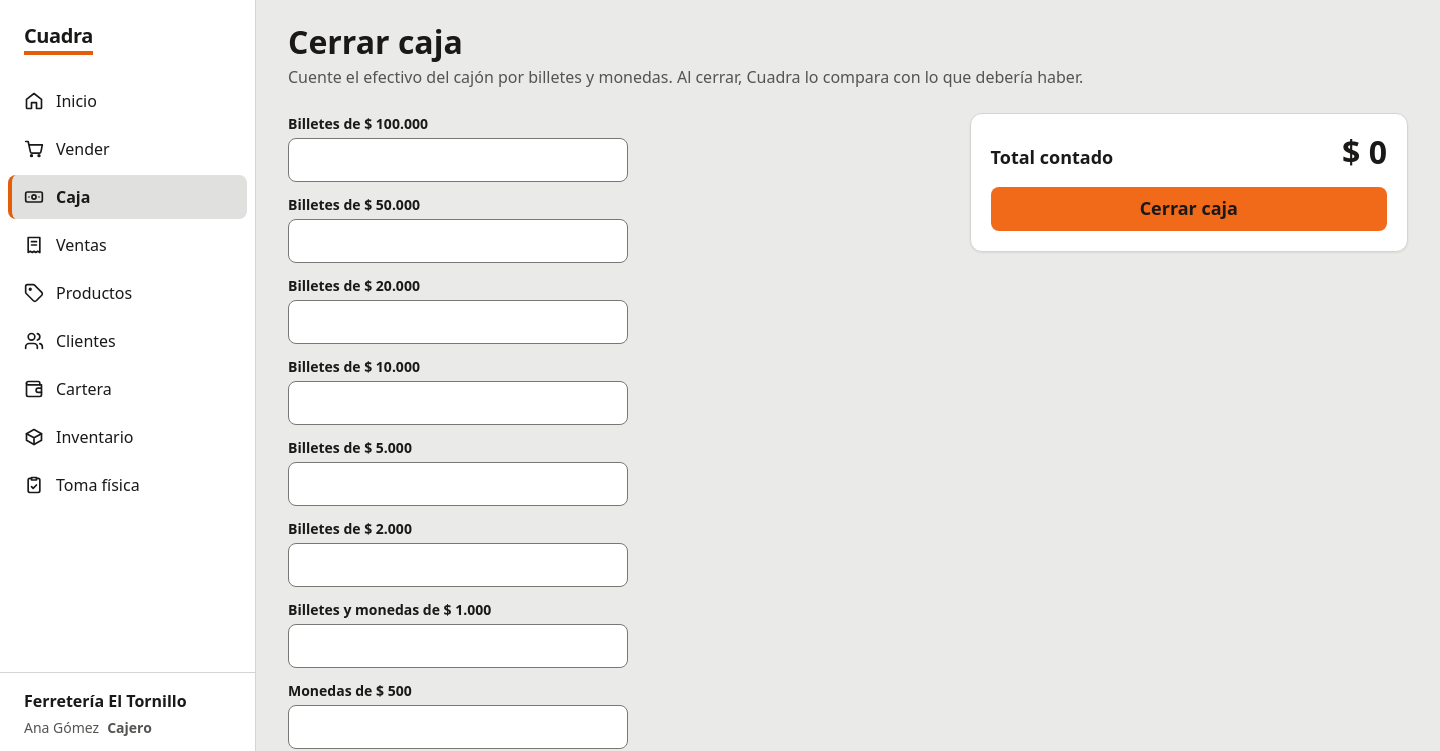
Test case: CloseCashPage › muestra el error de la API si la caja ya estaba cerrada
Step 1. Click the button "Cerrar caja" → (1189, 209), box [991,187,1387,231]
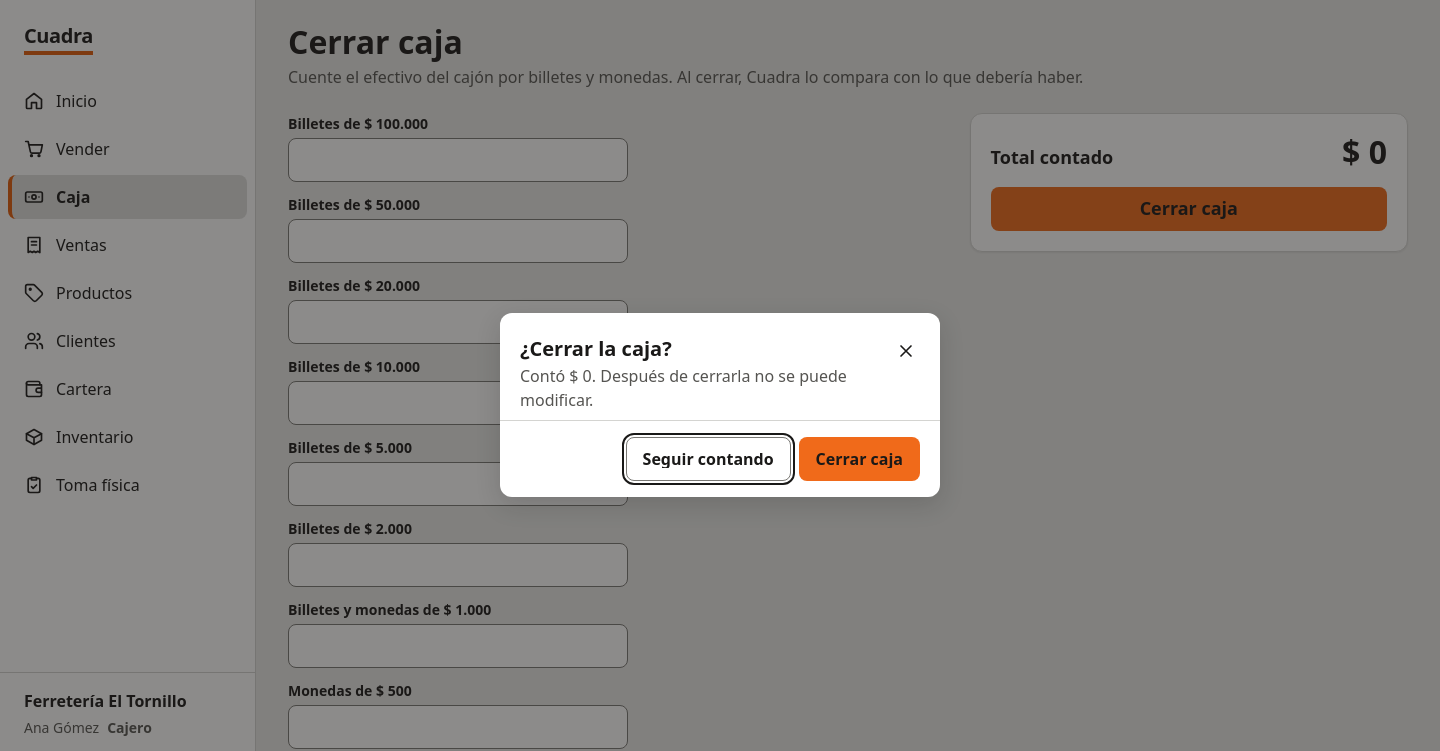
Step 2. Click the button "Cerrar caja" → (859, 459), box [799,437,920,481]
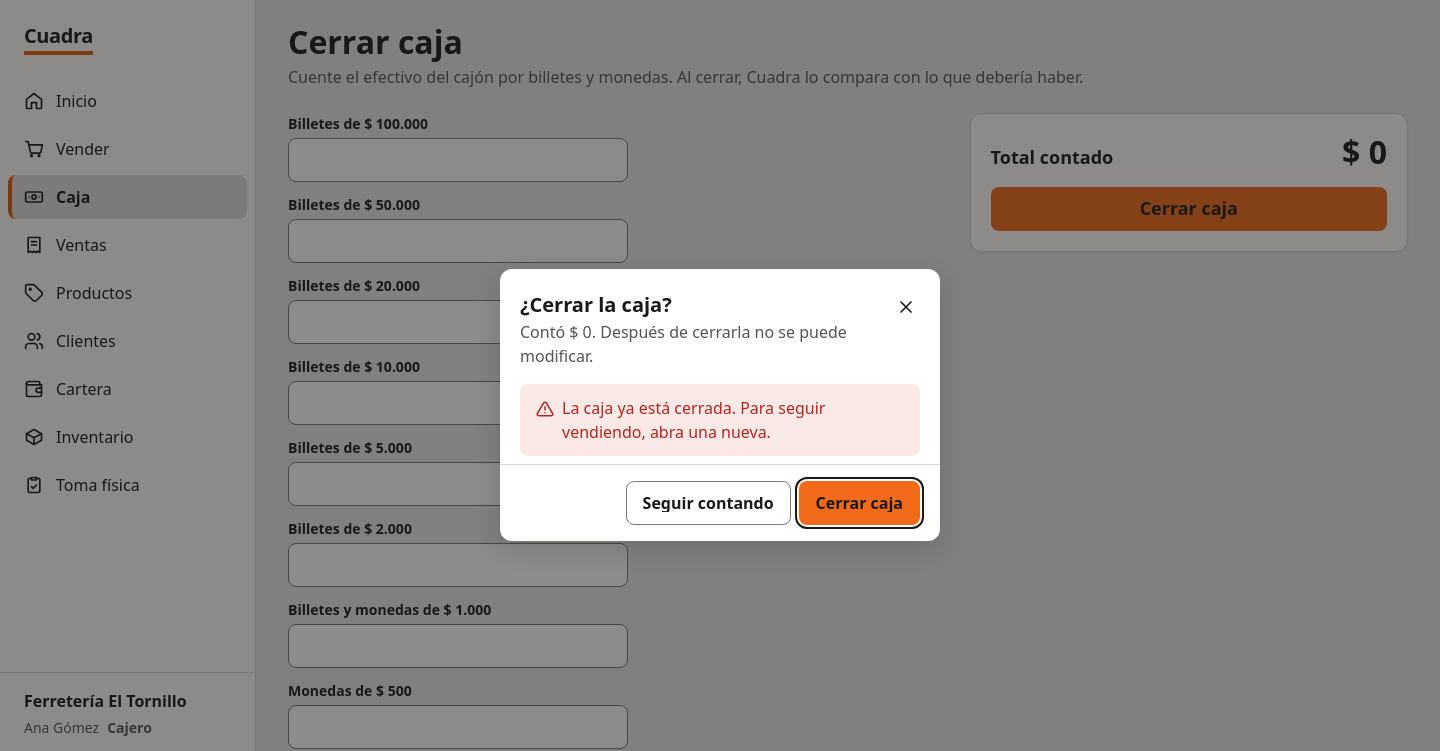
Check: the text "La caja ya está cerrada" is shown, box [562,397,825,443]
